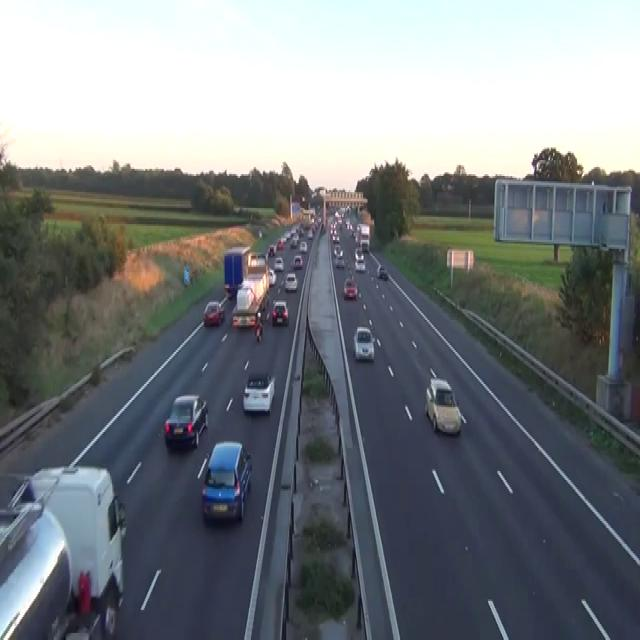Car: (0, 498, 72, 638), (201, 439, 252, 523), (163, 393, 208, 448), (424, 377, 462, 434), (242, 372, 275, 414), (62, 610, 101, 638), (353, 325, 374, 361), (231, 304, 256, 327), (203, 300, 224, 326), (271, 299, 288, 325), (343, 277, 357, 299), (284, 272, 297, 292), (333, 247, 344, 269), (376, 263, 388, 279), (354, 246, 364, 262), (355, 256, 365, 272), (292, 254, 303, 268), (254, 322, 262, 341), (268, 266, 276, 284), (225, 284, 235, 298), (256, 252, 266, 265), (333, 245, 343, 258), (274, 256, 283, 270), (360, 238, 369, 251), (335, 256, 344, 267), (299, 240, 307, 252), (267, 244, 275, 256), (289, 237, 297, 247), (276, 238, 283, 249), (282, 231, 289, 242), (332, 233, 339, 243), (297, 226, 304, 236), (306, 230, 313, 238), (281, 234, 287, 242), (258, 228, 262, 238)
Truck: (0, 464, 126, 638), (223, 245, 269, 327), (355, 222, 369, 251)
